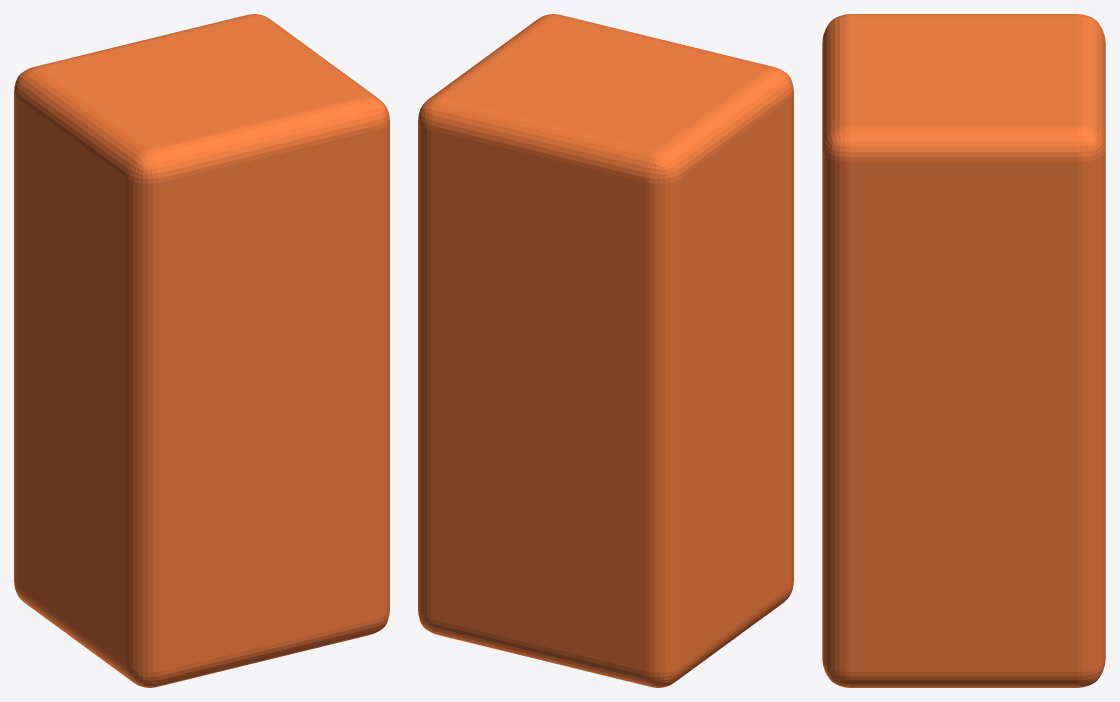
Rendered from Column.fbx.
The picture shows the model from 3 angles, left to right: view 1: azimuth 30°, elevation 25°; view 2: azimuth 150°, elevation 25°; view 3: azimuth 270°, elevation 25°; orthographic projection. The views are drawn at different scales.
Visible parts, largest first — view 1: Cube_8; view 2: Cube_8; view 3: Cube_8.
Part boxes in pixels (bbox=[...]): Cube_8: bbox=[14, 14, 389, 687]; Cube_8: bbox=[418, 14, 793, 687]; Cube_8: bbox=[822, 14, 1105, 687].
Bounding box in the file's own units: 450 × 889 × 407.
